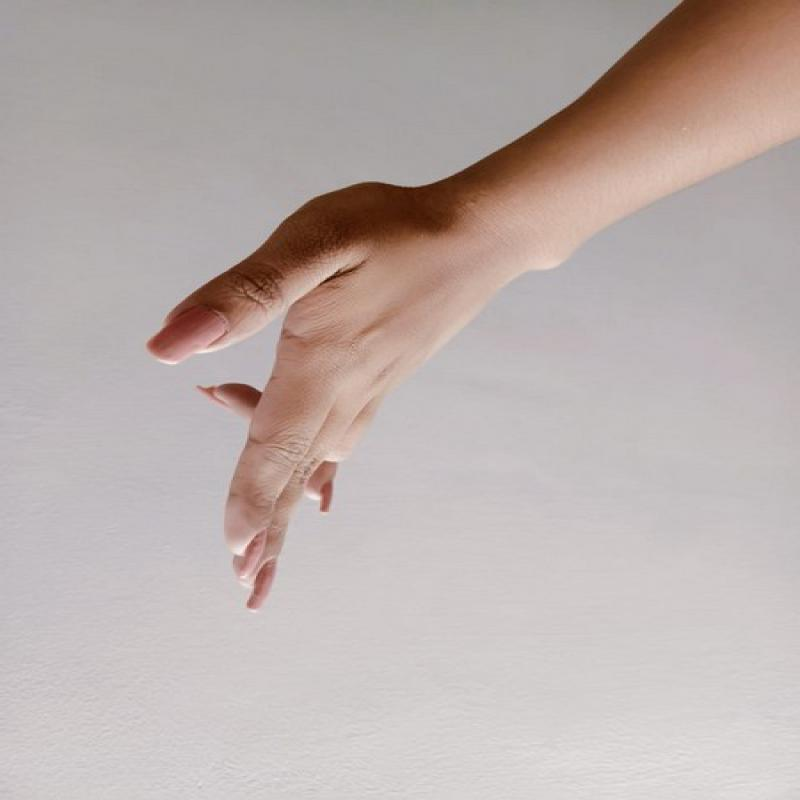Pathaaka: (129, 168, 448, 624)
